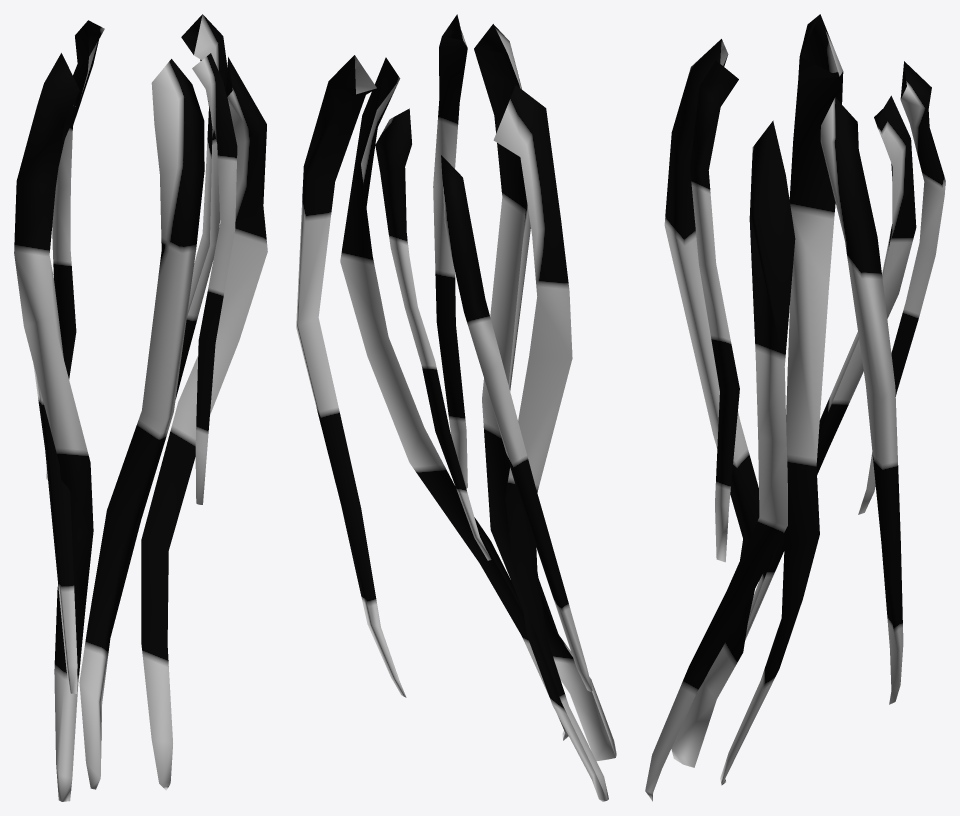
The model's file is sibelonit_boss_tentacles.obj.
3 views of the same model, side by side, from view 1: azimuth 30°, elevation 25°; view 2: azimuth 150°, elevation 25°; view 3: azimuth 270°, elevation 25° (orthographic). The views are drawn at different scales.
Parts seen in each view (by area): view 1: lordakia-idle; view 2: lordakia-idle; view 3: lordakia-idle.
Boxes of the visible parts, left/top/right/bottom form: lordakia-idle: left=14, top=14, right=267, bottom=801; lordakia-idle: left=296, top=14, right=616, bottom=801; lordakia-idle: left=645, top=14, right=945, bottom=801.
Bounding box in the file's own units: 61.89 × 179 × 60.95.
1 material, 1 textured.
